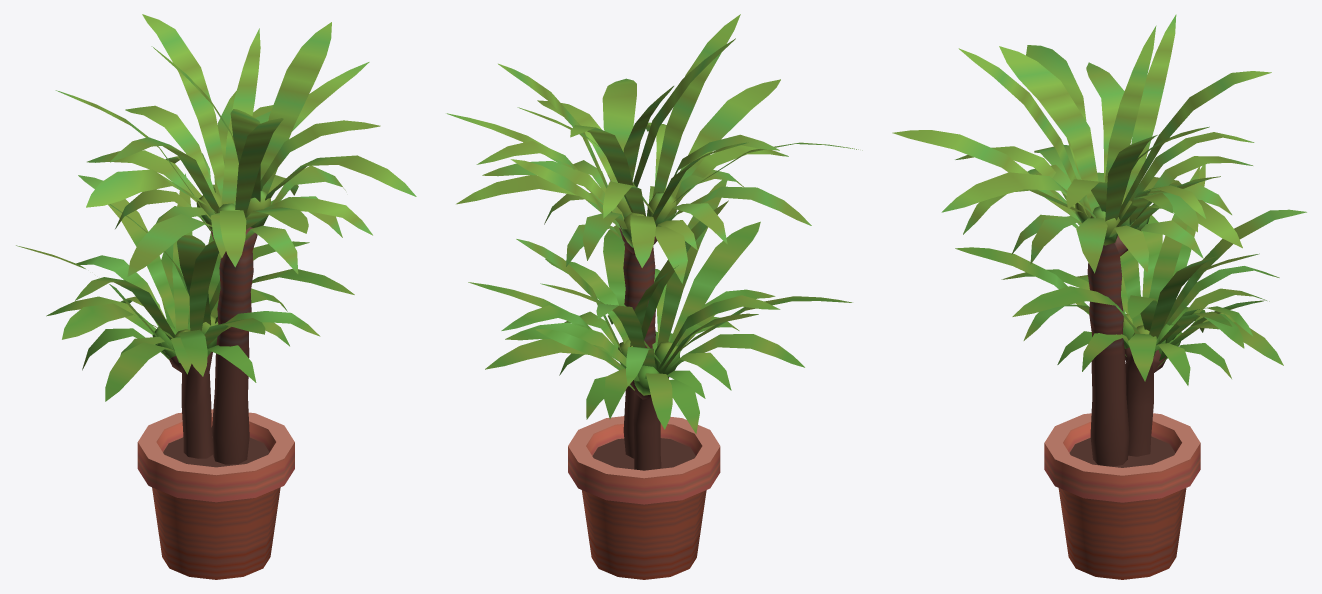
The model's file is flower-03.glb.
3 renders of one model, left to right at view 1: azimuth 30°, elevation 25°; view 2: azimuth 150°, elevation 25°; view 3: azimuth 270°, elevation 25°, orthographic. The views are drawn at different scales.
Visible parts, largest first — view 1: Flower_03; view 2: Flower_03; view 3: Flower_03.
Boxes of the visible parts, x1=… form: Flower_03: x1=16, y1=14, x2=416, y2=579; Flower_03: x1=446, y1=14, x2=862, y2=579; Flower_03: x1=892, y1=14, x2=1306, y2=579.
Size of the model in its own units: 1.76 by 2.36 by 1.74.
Materials: 1 (1 with a texture image).
